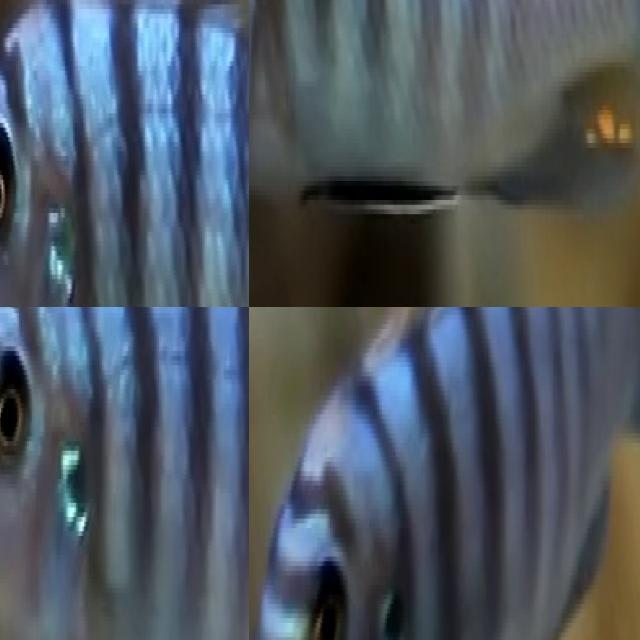fish: (249, 0, 640, 276), (0, 307, 249, 640), (0, 0, 249, 307)
